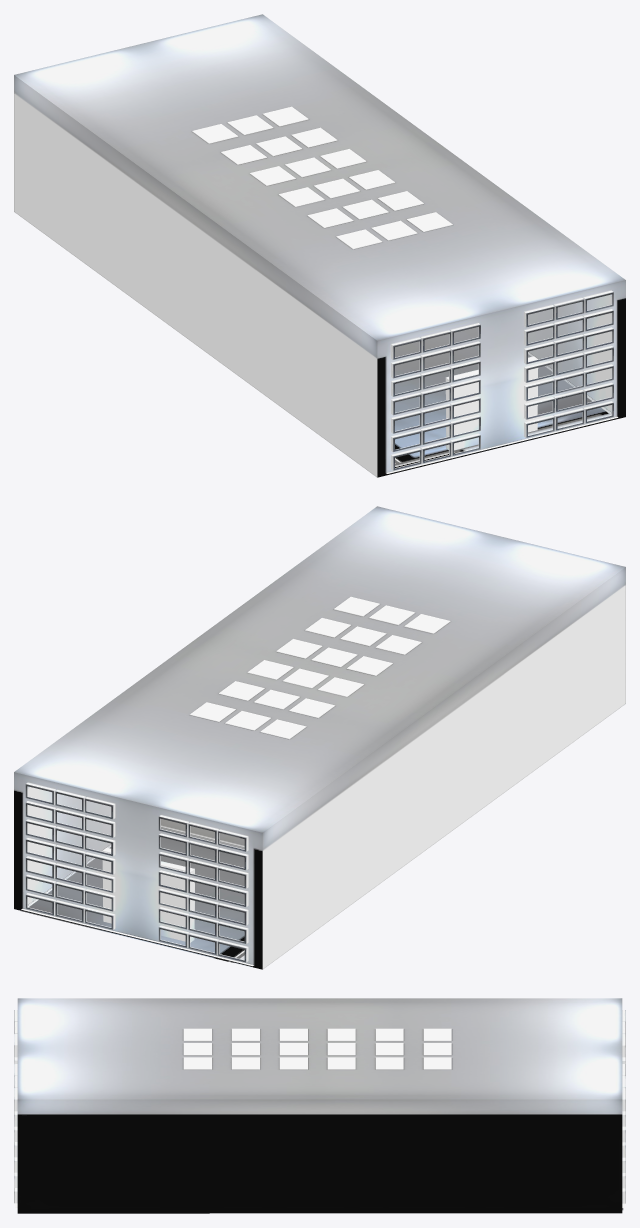
The picture shows the model from 3 angles, top to bottom: view 1: azimuth 30°, elevation 25°; view 2: azimuth 150°, elevation 25°; view 3: azimuth 270°, elevation 25°; orthographic projection. The views are drawn at different scales.
Visible parts, largest first — view 1: Raum, Lampen_oben, Floor; view 2: Raum, Lampen_oben, Floor; view 3: Raum, Lampen_oben.
Part boxes in pixels (left/top/right/bottom): Raum: left=14, top=14, right=625, bottom=477; Lampen_oben: left=192, top=106, right=452, bottom=249; Floor: left=395, top=327, right=610, bottom=467; Raum: left=14, top=506, right=625, bottom=969; Lampen_oben: left=189, top=596, right=450, bottom=739; Floor: left=21, top=819, right=252, bottom=967; Raum: left=14, top=998, right=625, bottom=1213; Lampen_oben: left=183, top=1028, right=451, bottom=1069.
Bounding box in the file's own units: 7.66 × 4.05 × 19.61.
3 materials, 2 textured.
